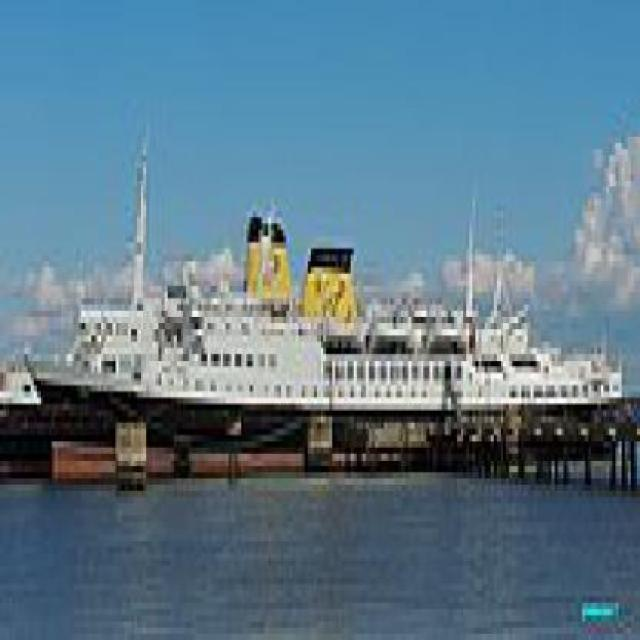cruise: (26, 262, 349, 486)
